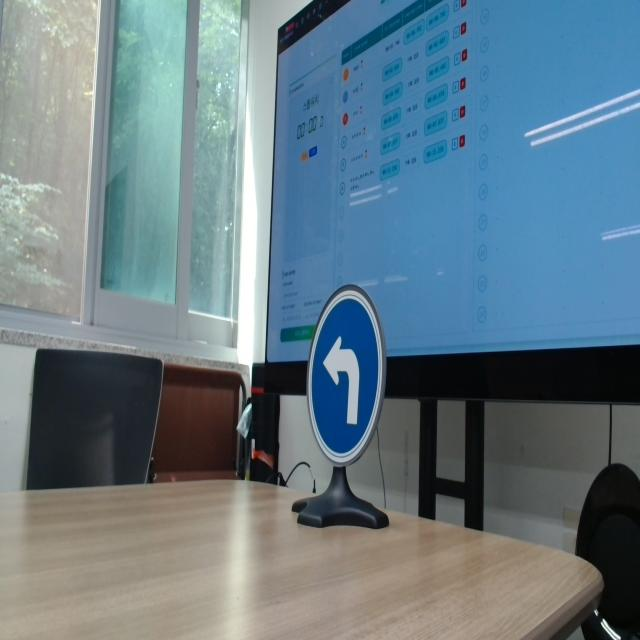left_direction: (303, 286, 386, 463)
